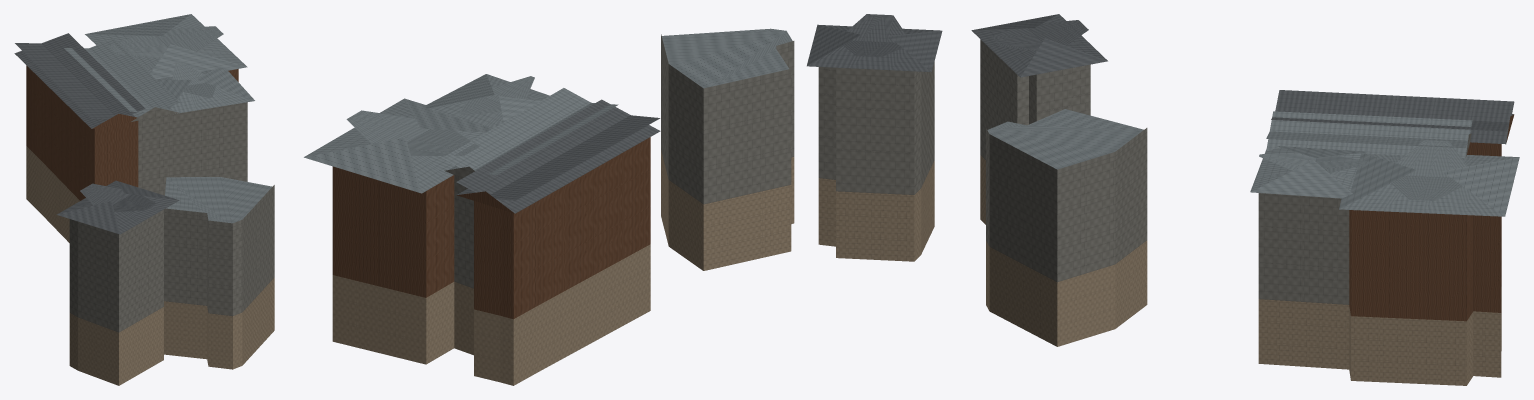
File: bld_c-18_18_513.gltf
3 views of the same model, side by side, from view 1: azimuth 30°, elevation 25°; view 2: azimuth 150°, elevation 25°; view 3: azimuth 270°, elevation 25° (orthographic). The views are drawn at different scales.
Visible parts, largest first — view 1: bld_c-18_18_513; view 2: bld_c-18_18_513; view 3: bld_c-18_18_513.
Boxes of the visible parts, x1=… form: bld_c-18_18_513: x1=14, y1=14, x2=274, y2=385; bld_c-18_18_513: x1=304, y1=14, x2=942, y2=385; bld_c-18_18_513: x1=971, y1=14, x2=1519, y2=385.
Size of the model in its own units: 31.92 by 17.1 by 39.18.
7 materials, 7 textured.
